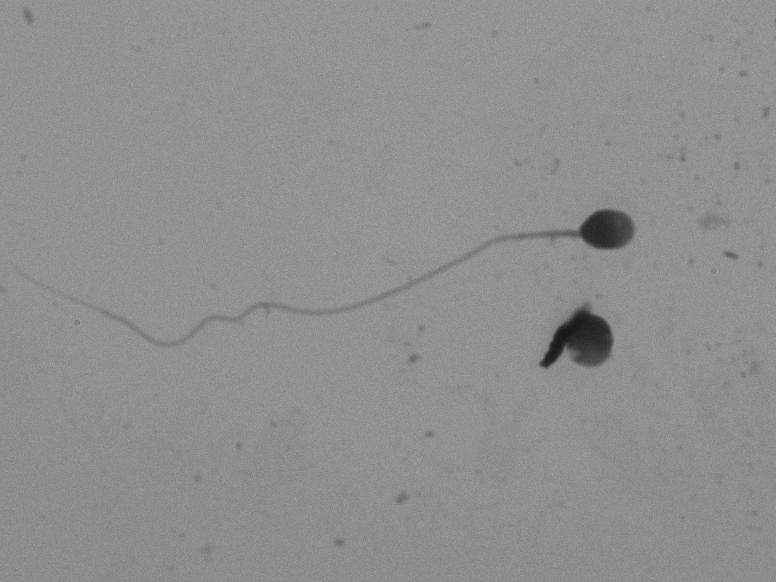Normal: (71, 173, 646, 322)
